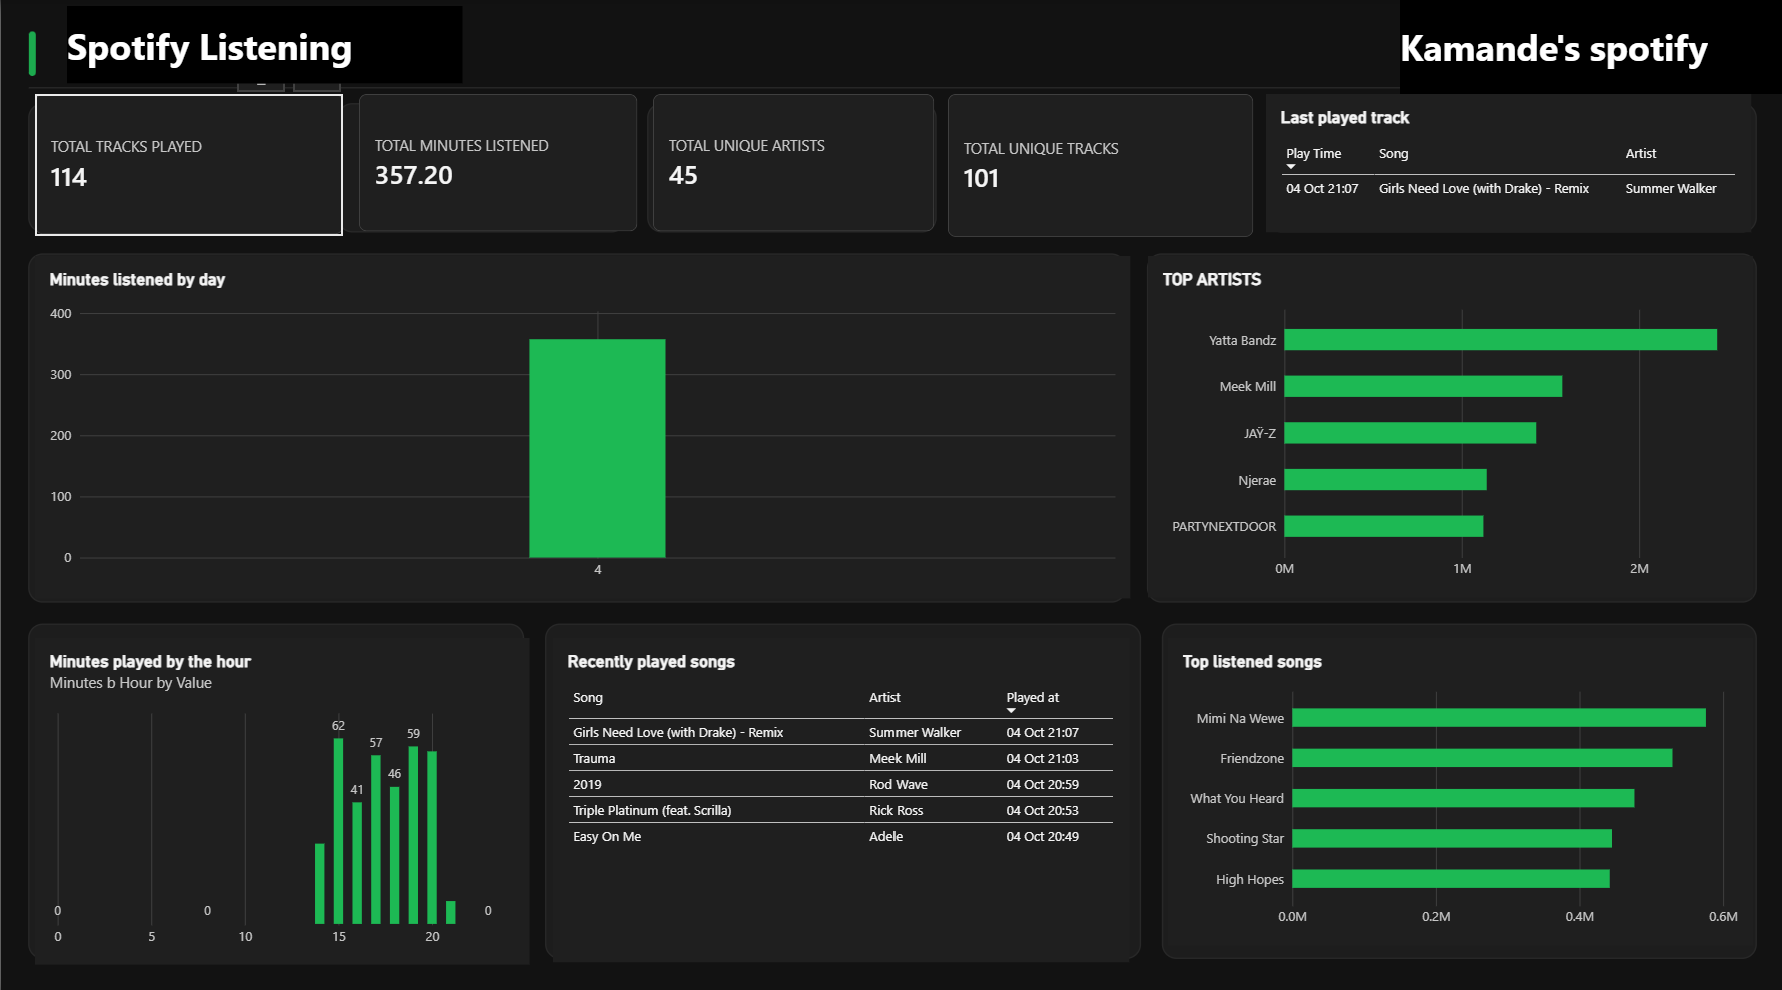

The page's visual inventory and layout, read from the dashboard file:
{"tool":"powerbi","page":{"name":"Page 1","canvas":[1920,1080],"ordinal":0},"visuals":[{"type":"cardVisual","fields":{"Data":["Sum(analytics agg_daily_listening.minutes_listened)"]},"box":[385.5,104.1,300.7,148.4],"z":0},{"type":"cardVisual","fields":{"Data":["Sum(analytics agg_daily_listening.unique_artists)"]},"box":[701.7,104.1,302.7,148.4],"z":1000},{"type":"cardVisual","title":"TOTAL UNIQUE TRACKs","fields":{"Data":["Sum(analytics agg_daily_listening.unique_tracks)"]},"box":[1019.8,104.1,329.6,154.2],"z":2000},{"type":"cardVisual","fields":{"Data":["Sum(analytics agg_daily_listening.tracks_played)"]},"box":[36.2,103.7,332.9,152],"z":3000},{"type":"barChart","title":"TOP ARTISTS","fields":{"Category":["analytics fct_listening_events.primary_artist_name"],"Y":["Sum(analytics fct_listening_events.listened_ms)"]},"box":[1236,278,652,368],"z":4000},{"type":"clusteredBarChart","title":"Top listened songs","fields":{"Category":["analytics fct_listening_events.track_name"],"Y":["Sum(analytics fct_listening_events.listened_ms)"]},"box":[1256.9,690.1,630.4,331.6],"z":5000},{"type":"tableEx","title":"Recently played songs","fields":{"Values":["analytics fct_listening_events.track_name","analytics fct_listening_events.primary_artist_name","analytics fct_listening_events.Play Time"]},"box":[595.8,689.8,619.9,349.7],"z":6000},{"type":"tableEx","title":"Last played track","fields":{"Values":["analytics fct_listening_events.Play Time","analytics fct_listening_events.track_name","analytics fct_listening_events.primary_artist_name"]},"box":[1362.5,103.9,522.8,148.9],"z":7000},{"type":"shape","box":[71.1,8.6,426.7,83.7],"z":8000},{"type":"shape","box":[1507.3,0,412.7,103.7],"z":9000},{"type":"clusteredColumnChart","title":"Minutes listened by day","fields":{"Category":["analytics agg_daily_listening.play_date.Variation.Date Hierarchy.Day"],"Y":["Sum(analytics agg_daily_listening.minutes_listened)"]},"box":[36.2,277.4,1179.5,369],"z":10000},{"type":"clusteredColumnChart","title":"Minutes played by the hour","fields":{"Category":["Hours.Value"],"Y":["analytics fct_listening_events.Minutes b Hour"]},"box":[36.2,689.8,533.1,352.2],"z":11000}]}

Visuals, with their boxes in screenshot pixels (x1, y1, x2, y2), scaled from the page's 1920x1080 canvas onto the 1782x990 screenshot:
cardVisual - Sum(analytics agg_daily_listening.minutes_listened): region(358, 95, 637, 231)
cardVisual - Sum(analytics agg_daily_listening.unique_artists): region(651, 95, 932, 231)
"TOTAL UNIQUE TRACKs" cardVisual: region(947, 95, 1252, 237)
cardVisual - Sum(analytics agg_daily_listening.tracks_played): region(34, 95, 343, 234)
"TOP ARTISTS" barChart: region(1147, 255, 1752, 592)
"Top listened songs" clusteredBarChart: region(1167, 633, 1752, 937)
"Recently played songs" tableEx: region(553, 632, 1128, 953)
"Last played track" tableEx: region(1265, 95, 1750, 232)
shape: region(66, 8, 462, 85)
shape: region(1399, 0, 1781, 95)
"Minutes listened by day" clusteredColumnChart: region(34, 254, 1128, 593)
"Minutes played by the hour" clusteredColumnChart: region(34, 632, 528, 955)
